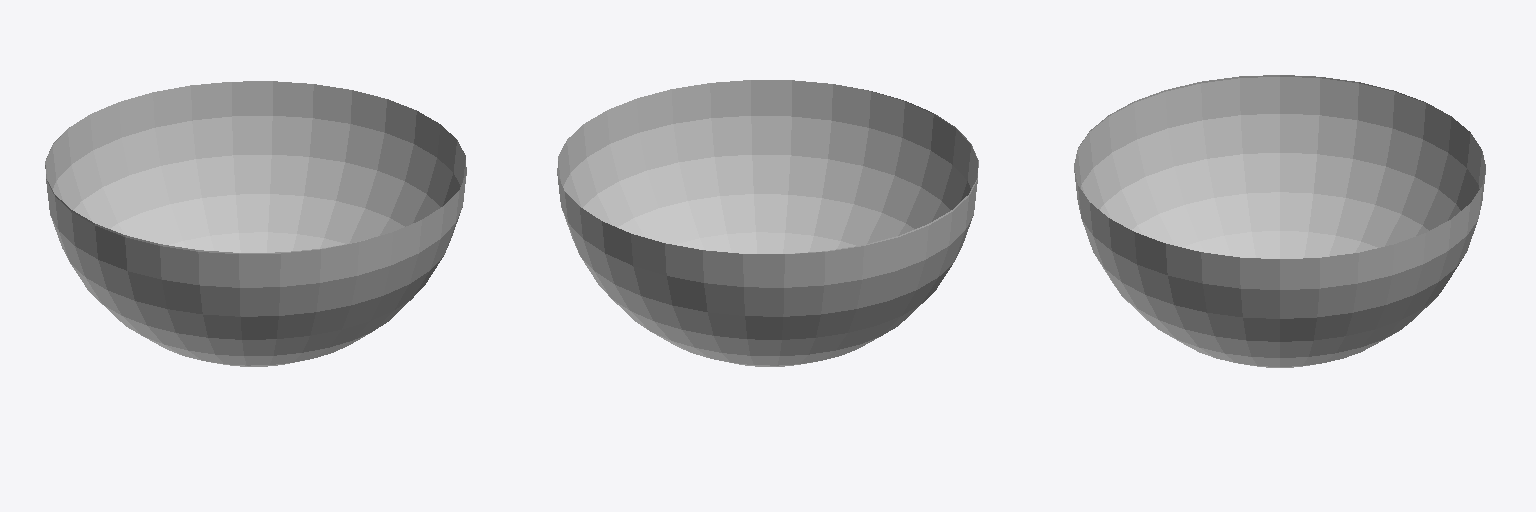
Rendered from poke_abajo.obj.
3 views of the same model, side by side, from view 1: azimuth 30°, elevation 25°; view 2: azimuth 150°, elevation 25°; view 3: azimuth 270°, elevation 25° (orthographic).
Parts seen in each view (by area): view 1: Sphere.001; view 2: Sphere.001; view 3: Sphere.001.
Part boxes in pixels (bbox=[...]): Sphere.001: bbox=[45, 81, 466, 366]; Sphere.001: bbox=[557, 80, 978, 366]; Sphere.001: bbox=[1074, 75, 1485, 367].
Bounding box in the file's own units: 4.07 × 1.92 × 3.94.